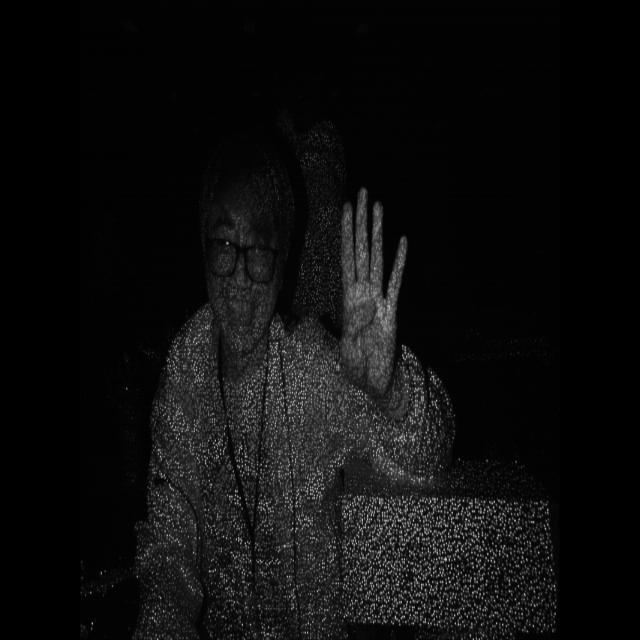B: (332, 177, 415, 405)
